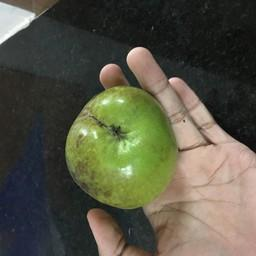Bad_apple: (68, 86, 178, 209)
